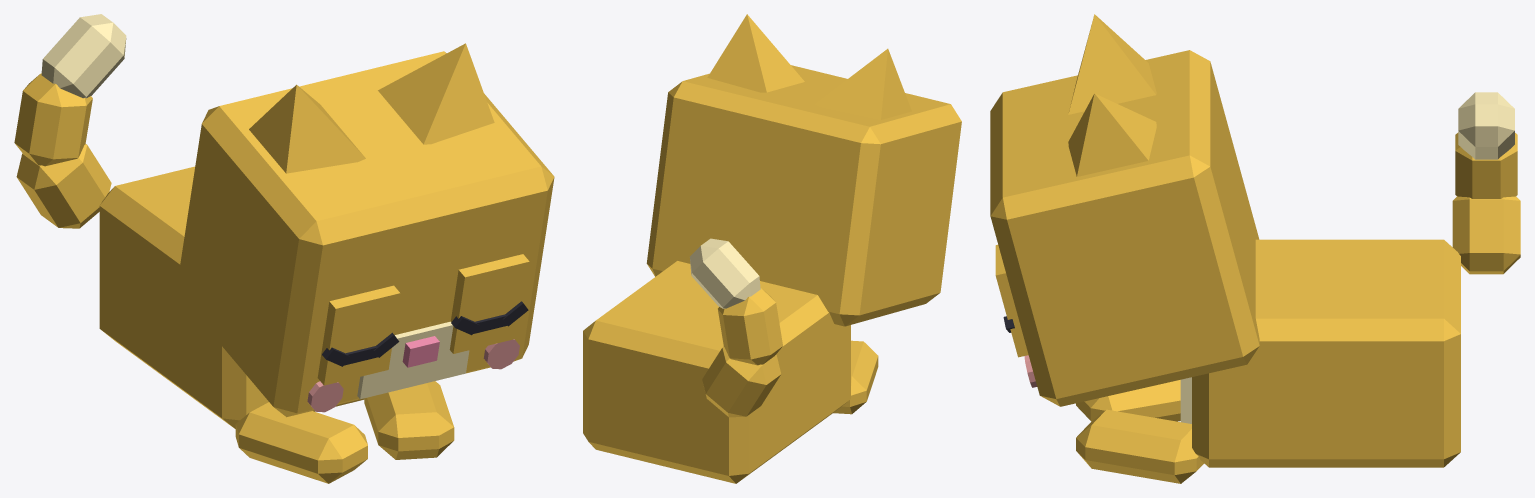
The model's file is CleanACat_Cat_Starcoat_Loaf_Lite.fbx.
3 renders of one model, left to right at view 1: azimuth 30°, elevation 25°; view 2: azimuth 150°, elevation 25°; view 3: azimuth 270°, elevation 25°, orthographic. The views are drawn at different scales.
Visible parts, largest first — view 1: CleanACat_Cat_Starcoat_Loaf_Lite_Head, CleanACat_Cat_Starcoat_Loaf_Lite_Body, CleanACat_Cat_Starcoat_Loaf_Lite_Tail, CleanACat_Cat_Starcoat_Loaf_Lite_Paws, CleanACat_Cat_Starcoat_Loaf_Lite_EarL, CleanACat_Cat_Starcoat_Loaf_Lite_Eye2, CleanACat_Cat_Starcoat_Loaf_Lite_Eye1, CleanACat_Cat_Starcoat_Loaf_Lite_EarR; view 2: CleanACat_Cat_Starcoat_Loaf_Lite_Head, CleanACat_Cat_Starcoat_Loaf_Lite_Body, CleanACat_Cat_Starcoat_Loaf_Lite_Tail, CleanACat_Cat_Starcoat_Loaf_Lite_EarL, CleanACat_Cat_Starcoat_Loaf_Lite_EarR, CleanACat_Cat_Starcoat_Loaf_Lite_Paws; view 3: CleanACat_Cat_Starcoat_Loaf_Lite_Head, CleanACat_Cat_Starcoat_Loaf_Lite_Body, CleanACat_Cat_Starcoat_Loaf_Lite_Tail, CleanACat_Cat_Starcoat_Loaf_Lite_Paws, CleanACat_Cat_Starcoat_Loaf_Lite_EarL, CleanACat_Cat_Starcoat_Loaf_Lite_EarR, CleanACat_Cat_Starcoat_Loaf_Lite_Eye1.
Boxes of the visible parts, x1,y1,x2,y2 form: CleanACat_Cat_Starcoat_Loaf_Lite_Head: (176, 51, 554, 417); CleanACat_Cat_Starcoat_Loaf_Lite_Body: (99, 166, 364, 428); CleanACat_Cat_Starcoat_Loaf_Lite_Tail: (14, 14, 126, 228); CleanACat_Cat_Starcoat_Loaf_Lite_Paws: (235, 381, 454, 483); CleanACat_Cat_Starcoat_Loaf_Lite_EarL: (378, 43, 494, 144); CleanACat_Cat_Starcoat_Loaf_Lite_Eye2: (317, 285, 400, 385); CleanACat_Cat_Starcoat_Loaf_Lite_Eye1: (449, 254, 529, 353); CleanACat_Cat_Starcoat_Loaf_Lite_EarR: (249, 84, 365, 173); CleanACat_Cat_Starcoat_Loaf_Lite_Head: (646, 65, 961, 326); CleanACat_Cat_Starcoat_Loaf_Lite_Body: (583, 261, 850, 483); CleanACat_Cat_Starcoat_Loaf_Lite_Tail: (690, 238, 782, 417); CleanACat_Cat_Starcoat_Loaf_Lite_EarL: (707, 14, 804, 92); CleanACat_Cat_Starcoat_Loaf_Lite_EarR: (815, 48, 911, 119); CleanACat_Cat_Starcoat_Loaf_Lite_Paws: (833, 340, 878, 414); CleanACat_Cat_Starcoat_Loaf_Lite_Head: (990, 50, 1259, 406); CleanACat_Cat_Starcoat_Loaf_Lite_Body: (1180, 239, 1460, 467); CleanACat_Cat_Starcoat_Loaf_Lite_Tail: (1452, 92, 1520, 274); CleanACat_Cat_Starcoat_Loaf_Lite_Paws: (1076, 380, 1203, 483); CleanACat_Cat_Starcoat_Loaf_Lite_EarL: (1068, 93, 1156, 176); CleanACat_Cat_Starcoat_Loaf_Lite_EarR: (1068, 14, 1156, 114); CleanACat_Cat_Starcoat_Loaf_Lite_Eye1: (995, 244, 1028, 357).
Size of the model in its own units: 1.11 by 1.52 by 1.87.
Materials: 1 (1 with a texture image).
